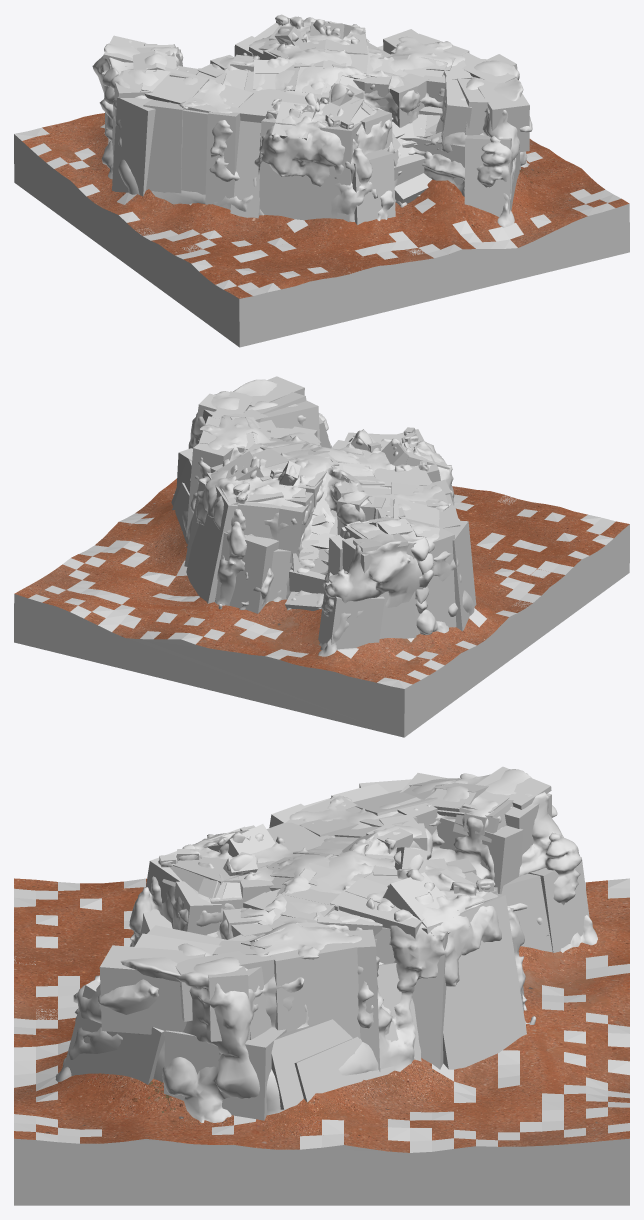
The model's file is Ground_rock_01.fbx.
The picture shows the model from 3 angles, top to bottom: view 1: azimuth 30°, elevation 25°; view 2: azimuth 150°, elevation 25°; view 3: azimuth 270°, elevation 25°; orthographic projection. The views are drawn at different scales.
Parts seen in each view (by area): view 1: Ground_rock_01_M01_MeshCollidor, Ground_rock_01_M01_LOD0, Rock_01_M01_LOD0, Rock_01_BoxCollidor.002, Rock_01_BoxCollidor.003, Rock_01_BoxCollidor.156, Rock_01_BoxCollidor.001, Rock_01_BoxCollidor.154, Rock_01_BoxCollidor.155, Rock_01_BoxCollidor.153, Rock_01_BoxCollidor.039, Rock_01_BoxCollidor.148 (+14 smaller); view 2: Ground_rock_01_M01_MeshCollidor, Ground_rock_01_M01_LOD0, Rock_01_M01_LOD0, Rock_01_BoxCollidor.107, Rock_01_BoxCollidor.006, Rock_01_BoxCollidor.007, Rock_01_BoxCollidor.005, Rock_01_BoxCollidor.004, Rock_01_BoxCollidor.003, Rock_01_BoxCollidor.068, Rock_01_BoxCollidor.020, Rock_01_BoxCollidor.055 (+10 smaller); view 3: Ground_rock_01_M01_LOD0, Ground_rock_01_M01_MeshCollidor, Rock_01_M01_LOD0, Rock_01_BoxCollidor.107, Rock_01_BoxCollidor.105, Rock_01_BoxCollidor.148, Rock_01_BoxCollidor, Rock_01_BoxCollidor.001, Rock_01_BoxCollidor.108, Rock_01_BoxCollidor.106, Rock_01_BoxCollidor.110, Rock_01_BoxCollidor.006 (+21 smaller).
Part boxes in pixels (bbox=[...]): Ground_rock_01_M01_MeshCollidor: bbox=[14, 45, 629, 347]; Ground_rock_01_M01_LOD0: bbox=[22, 113, 629, 298]; Rock_01_M01_LOD0: bbox=[92, 15, 532, 227]; Rock_01_BoxCollidor.002: bbox=[259, 118, 361, 221]; Rock_01_BoxCollidor.003: bbox=[112, 97, 155, 196]; Rock_01_BoxCollidor.156: bbox=[143, 100, 184, 203]; Rock_01_BoxCollidor.001: bbox=[464, 135, 519, 216]; Rock_01_BoxCollidor.154: bbox=[230, 120, 261, 218]; Rock_01_BoxCollidor.155: bbox=[181, 109, 207, 194]; Rock_01_BoxCollidor.153: bbox=[205, 112, 240, 209]; Rock_01_BoxCollidor.039: bbox=[352, 149, 395, 224]; Rock_01_BoxCollidor.148: bbox=[473, 78, 529, 152]; Ground_rock_01_M01_MeshCollidor: bbox=[14, 494, 629, 737]; Ground_rock_01_M01_LOD0: bbox=[14, 478, 629, 684]; Rock_01_M01_LOD0: bbox=[182, 379, 474, 656]; Rock_01_BoxCollidor.107: bbox=[186, 472, 237, 603]; Rock_01_BoxCollidor.006: bbox=[318, 583, 384, 649]; Rock_01_BoxCollidor.007: bbox=[215, 532, 279, 613]; Rock_01_BoxCollidor.005: bbox=[342, 537, 416, 638]; Rock_01_BoxCollidor.004: bbox=[415, 524, 456, 635]; Rock_01_BoxCollidor.003: bbox=[442, 520, 476, 631]; Rock_01_BoxCollidor.068: bbox=[353, 434, 431, 487]; Rock_01_BoxCollidor.020: bbox=[276, 504, 308, 563]; Rock_01_BoxCollidor.055: bbox=[260, 400, 319, 440]; Ground_rock_01_M01_LOD0: bbox=[14, 878, 629, 1152]; Ground_rock_01_M01_MeshCollidor: bbox=[14, 878, 629, 1205]; Rock_01_M01_LOD0: bbox=[55, 769, 597, 1122]; Rock_01_BoxCollidor.107: bbox=[421, 893, 526, 1069]; Rock_01_BoxCollidor.105: bbox=[269, 926, 360, 1038]; Rock_01_BoxCollidor.148: bbox=[99, 945, 205, 1035]; Rock_01_BoxCollidor: bbox=[164, 1027, 286, 1120]; Rock_01_BoxCollidor.001: bbox=[63, 980, 164, 1084]; Rock_01_BoxCollidor.108: bbox=[374, 927, 448, 1069]; Rock_01_BoxCollidor.106: bbox=[271, 1019, 352, 1109]; Rock_01_BoxCollidor.110: bbox=[294, 1021, 398, 1102]; Rock_01_BoxCollidor.006: bbox=[528, 857, 589, 952].
Size of what is drawn, in the model's own units: 2001 by 824 by 2000.
